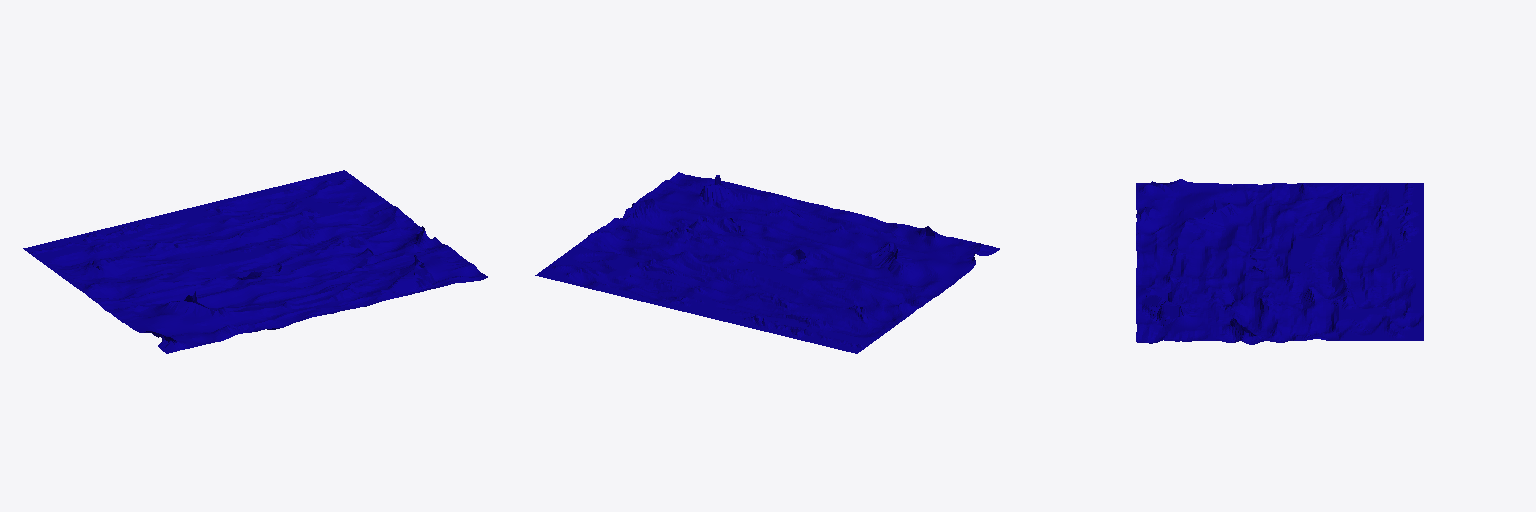
The model's file is rio.obj.
3 renders of one model, left to right at view 1: azimuth 30°, elevation 25°; view 2: azimuth 150°, elevation 25°; view 3: azimuth 270°, elevation 25°, orthographic.
Visible parts, largest first — view 1: Plane003; view 2: Plane003; view 3: Plane003.
Boxes of the visible parts, x1,y1,x2,y2 form: Plane003: [23, 170, 487, 353]; Plane003: [535, 172, 999, 353]; Plane003: [1136, 179, 1423, 344].
Bounding box in the file's own units: 99.58 × 9.07 × 77.04.